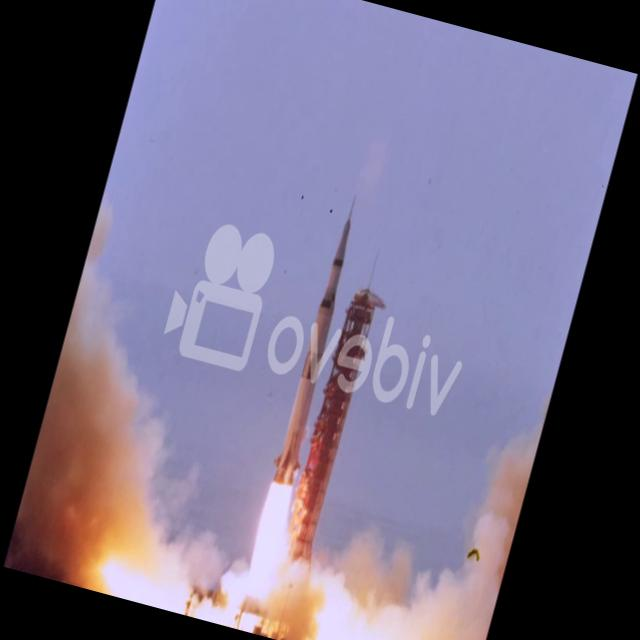rocket: (246, 199, 371, 572)
